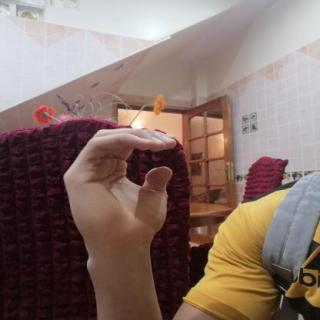JEEM: (53, 120, 190, 269)
